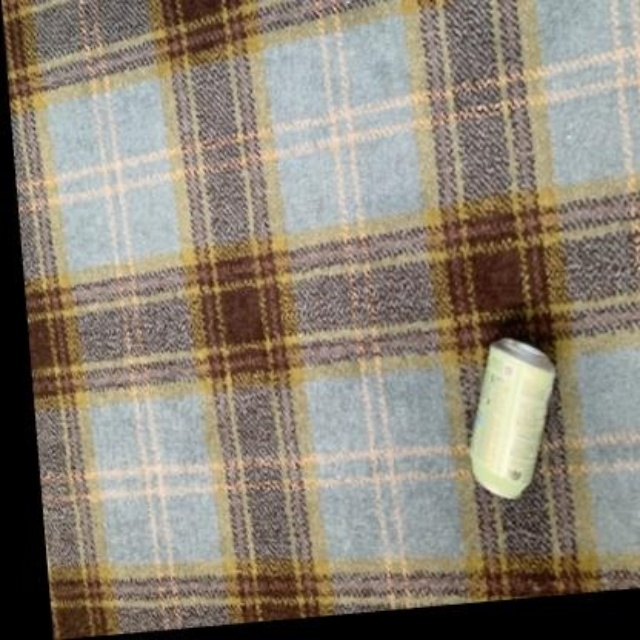trash: (469, 338, 554, 497)
